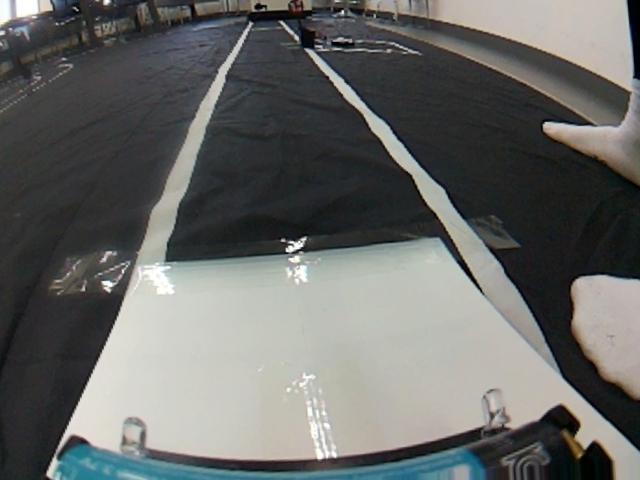hill_down: (7, 222, 636, 473)
